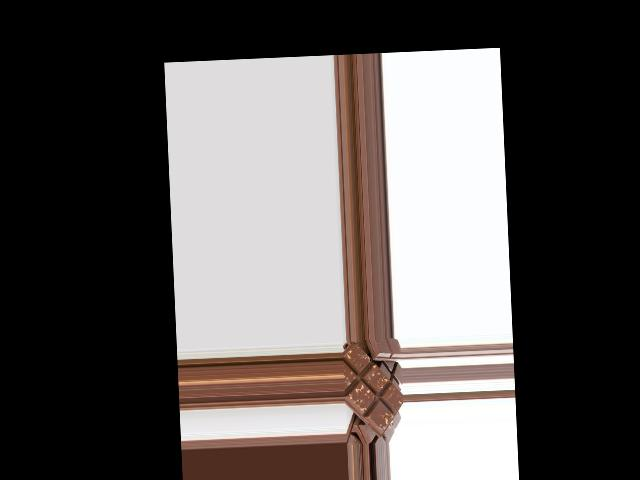chocolate: (341, 341, 403, 432)
